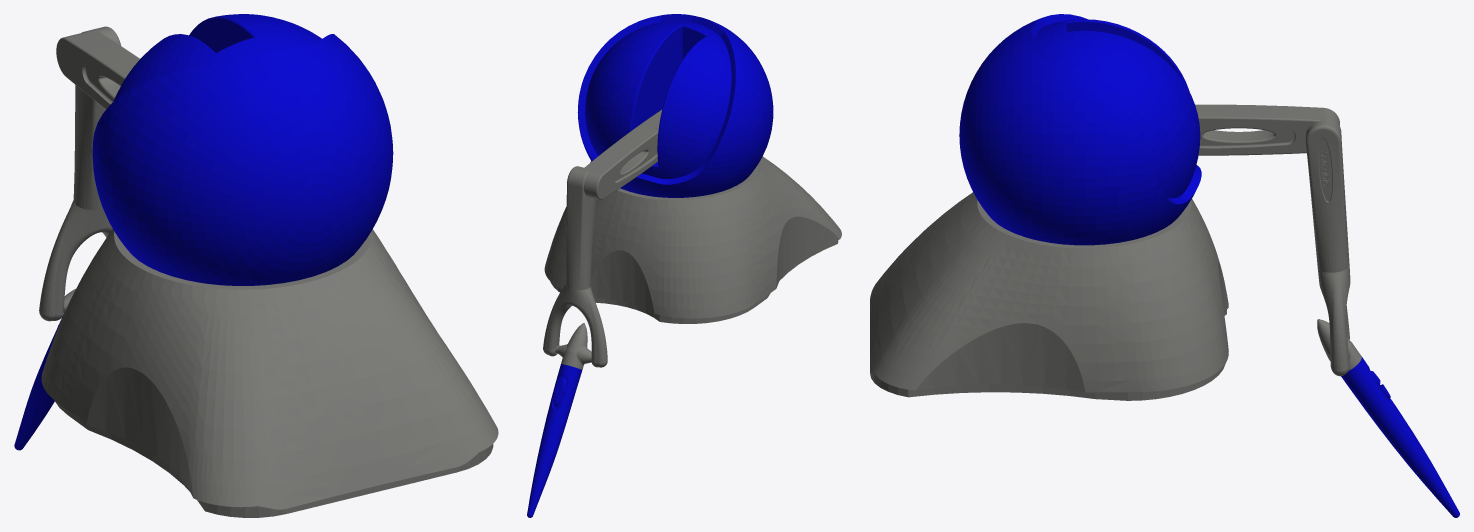
Rendered from omni.dae.
The picture shows the model from 3 angles, left to right: view 1: azimuth 30°, elevation 25°; view 2: azimuth 150°, elevation 25°; view 3: azimuth 270°, elevation 25°; orthographic projection. The views are drawn at different scales.
Parts seen in each view (by area): view 1: base, torso, upper_arm, wrist, lower_arm, stylus; view 2: base, torso, upper_arm, lower_arm, stylus, wrist, tip; view 3: base, torso, upper_arm, lower_arm, stylus, wrist.
Boxes of the visible parts, x1,y1,x2,y2 form: base: (41, 229, 498, 517); torso: (92, 14, 393, 285); upper_arm: (56, 31, 139, 109); wrist: (39, 200, 112, 321); lower_arm: (73, 26, 120, 210); stylus: (14, 315, 63, 450); base: (544, 156, 841, 323); torso: (577, 14, 773, 197); upper_arm: (583, 109, 662, 199); lower_arm: (565, 166, 595, 290); stylus: (527, 364, 582, 517); wrist: (543, 285, 607, 367); tip: (555, 323, 591, 369); base: (870, 192, 1228, 400); torso: (959, 14, 1201, 245); upper_arm: (1195, 104, 1339, 155); lower_arm: (1305, 116, 1349, 272); stylus: (1341, 356, 1459, 517); wrist: (1317, 266, 1350, 376).
Bounding box in the file's own units: 0.1674 × 0.3306 × 0.3014.
